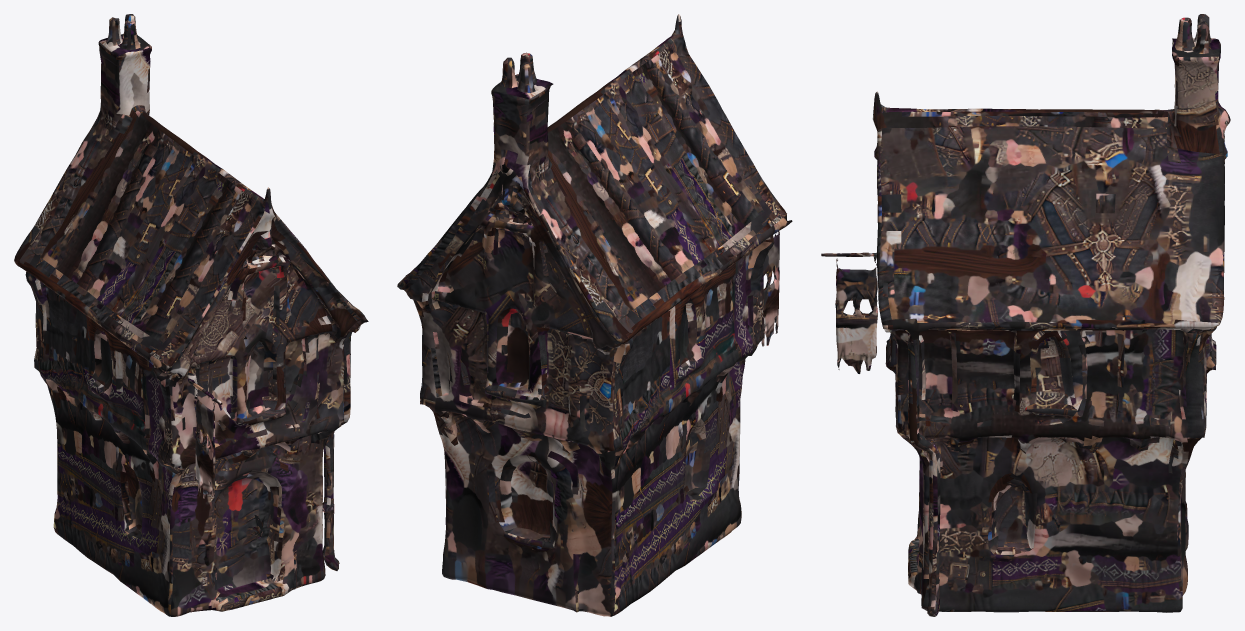
The picture shows the model from 3 angles, left to right: view 1: azimuth 30°, elevation 25°; view 2: azimuth 150°, elevation 25°; view 3: azimuth 270°, elevation 25°; orthographic projection. The views are drawn at different scales.
Visible parts, largest first — view 1: tripo_node_d03a6761; view 2: tripo_node_d03a6761; view 3: tripo_node_d03a6761.
Boxes of the visible parts, left/top/right/bottom form: tripo_node_d03a6761: left=14, top=14, right=368, bottom=616; tripo_node_d03a6761: left=397, top=14, right=792, bottom=616; tripo_node_d03a6761: left=821, top=14, right=1230, bottom=616.
Size of the model in its own units: 0.4317 by 0.9765 by 0.6571.
